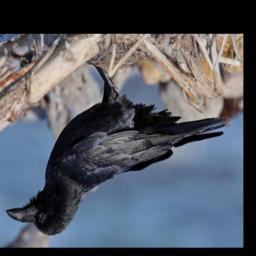Crow: (5, 57, 230, 236)
